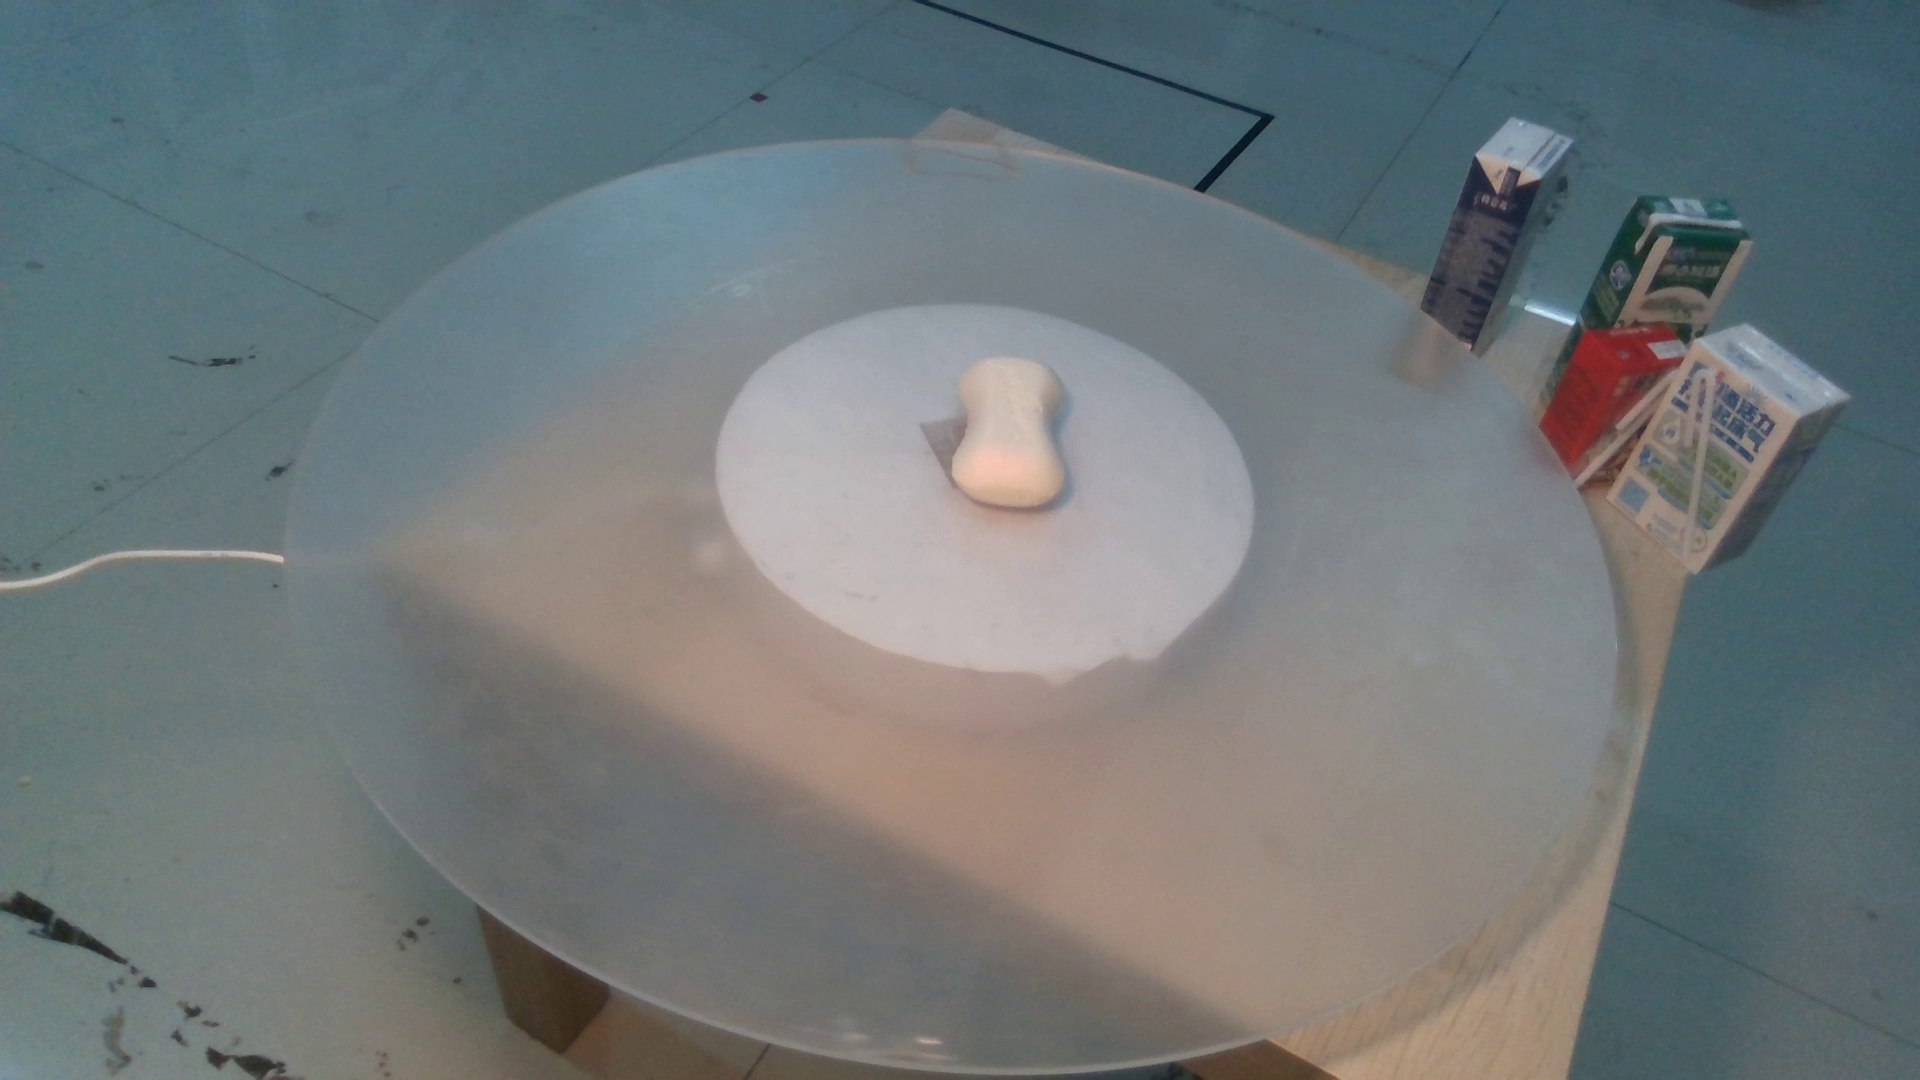CA003_1: (913, 345, 1097, 518)
